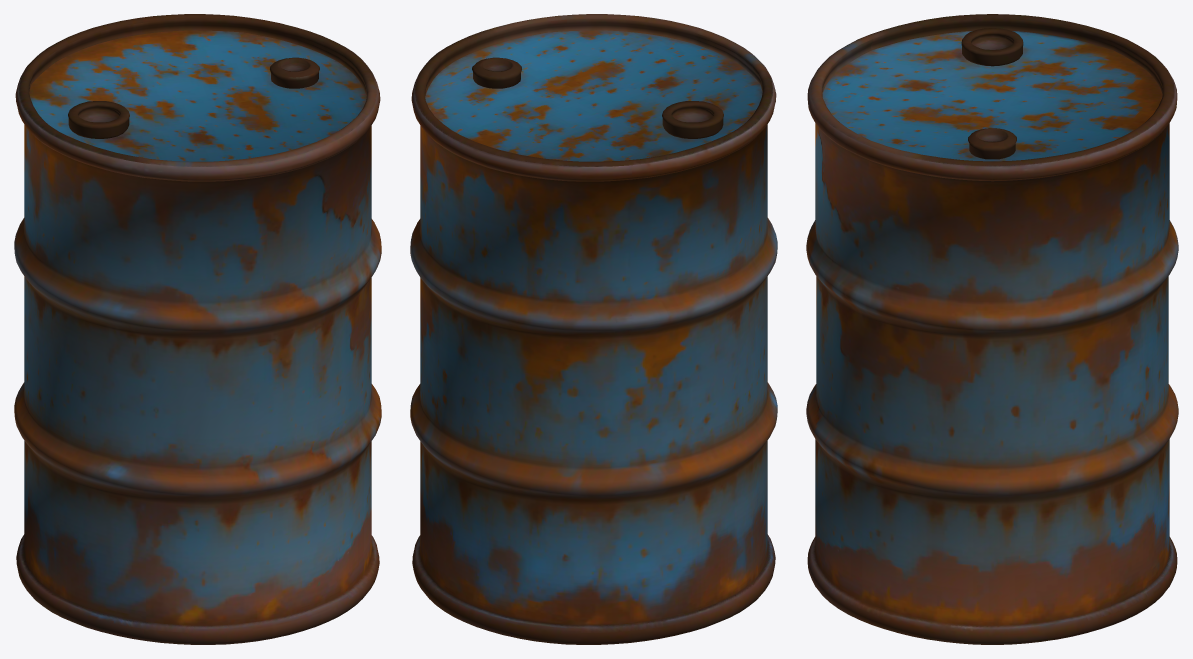
The model's file is rusty_oil_barrel_a1ef5c6b_v4.glb.
The picture shows the model from 3 angles, left to right: view 1: azimuth 30°, elevation 25°; view 2: azimuth 150°, elevation 25°; view 3: azimuth 270°, elevation 25°; orthographic projection.
Parts seen in each view (by area): view 1: material; view 2: material; view 3: material.
Part boxes in pixels (left/top/right/bottom): material: left=14, top=14, right=381, bottom=644; material: left=410, top=14, right=777, bottom=644; material: left=806, top=14, right=1178, bottom=644.
Size of the model in its own units: 1.32 by 1.9 by 1.33.
1 material, 1 textured.
